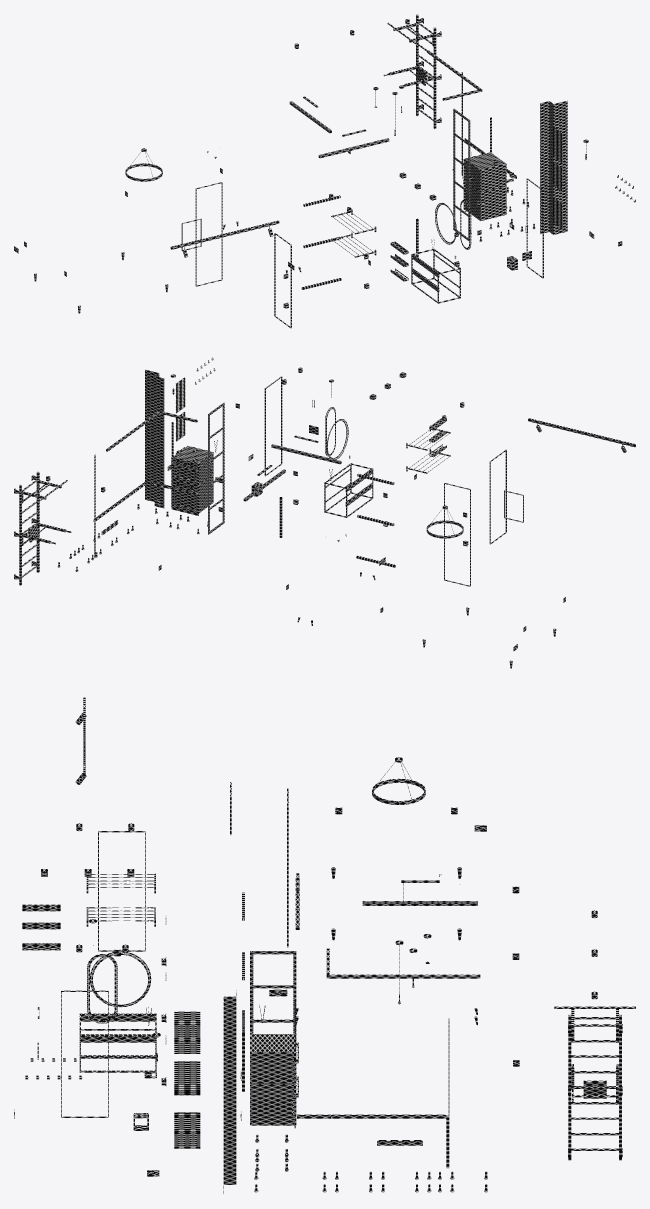
3 views of the same model, one above another, from view 1: azimuth 30°, elevation 25°; view 2: azimuth 150°, elevation 25°; view 3: azimuth 270°, elevation 25° (orthographic). The views are drawn at different scales.
Size of the model in its own units: 9.98 by 2.7 by 8.09.
Materials: 1 (1 with a texture image).
